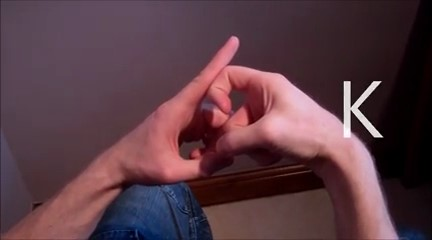K: (121, 24, 339, 193)
